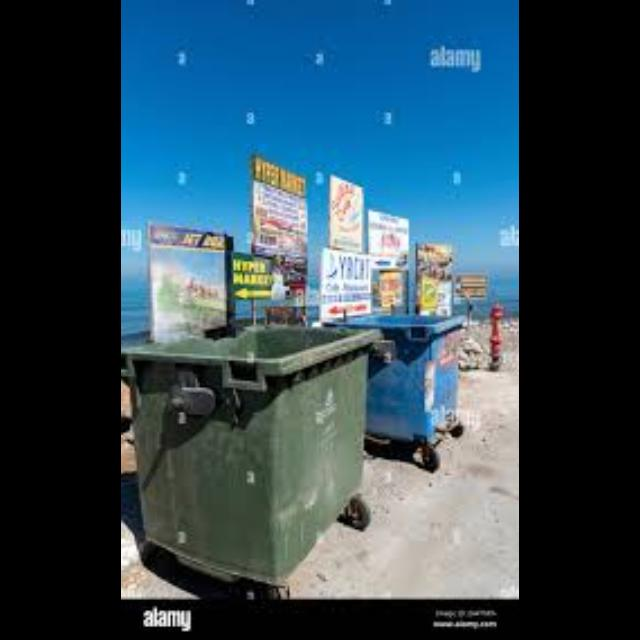Trash_Can_Empty: (122, 323, 371, 586), (334, 313, 467, 442)
